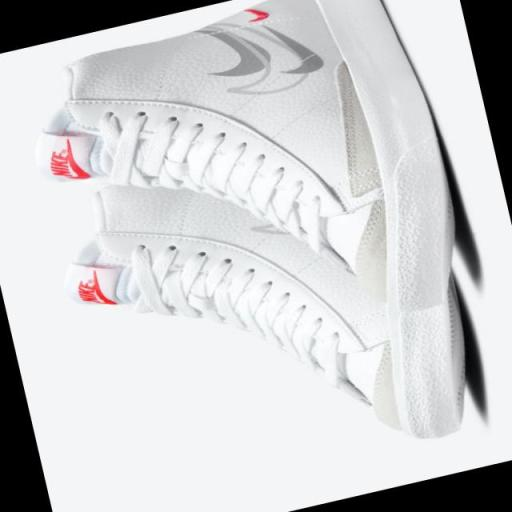Nike: (262, 14, 325, 81), (46, 149, 73, 179)
